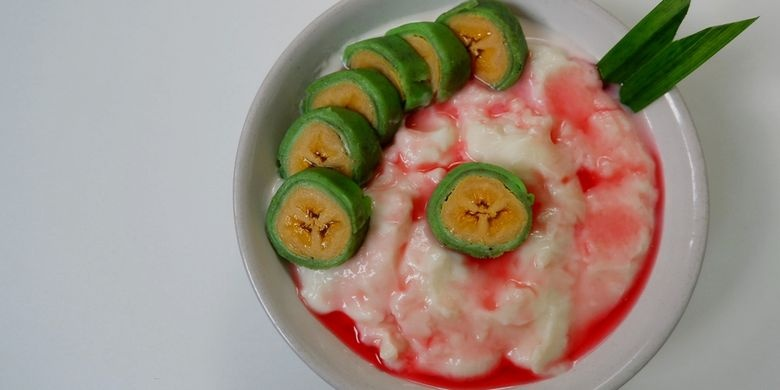pisang_ijo: (413, 140, 539, 264), (258, 172, 367, 278)
